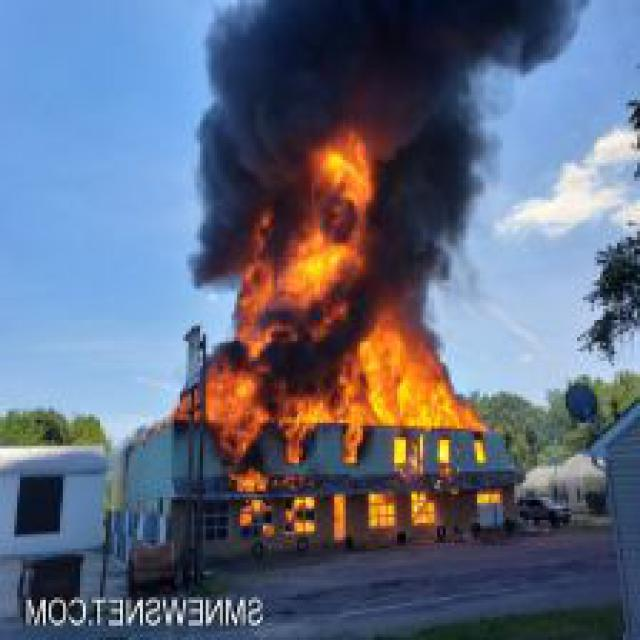fire: (192, 140, 494, 551)
